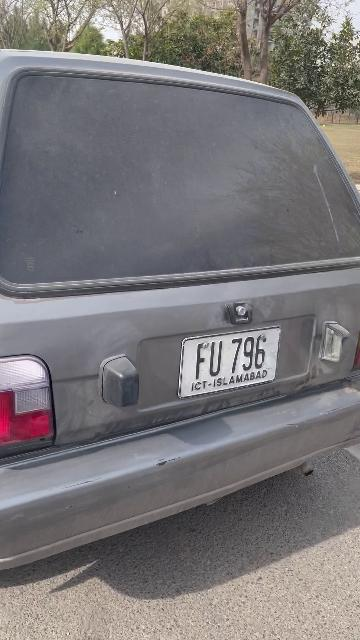plate: (180, 326, 282, 398)
